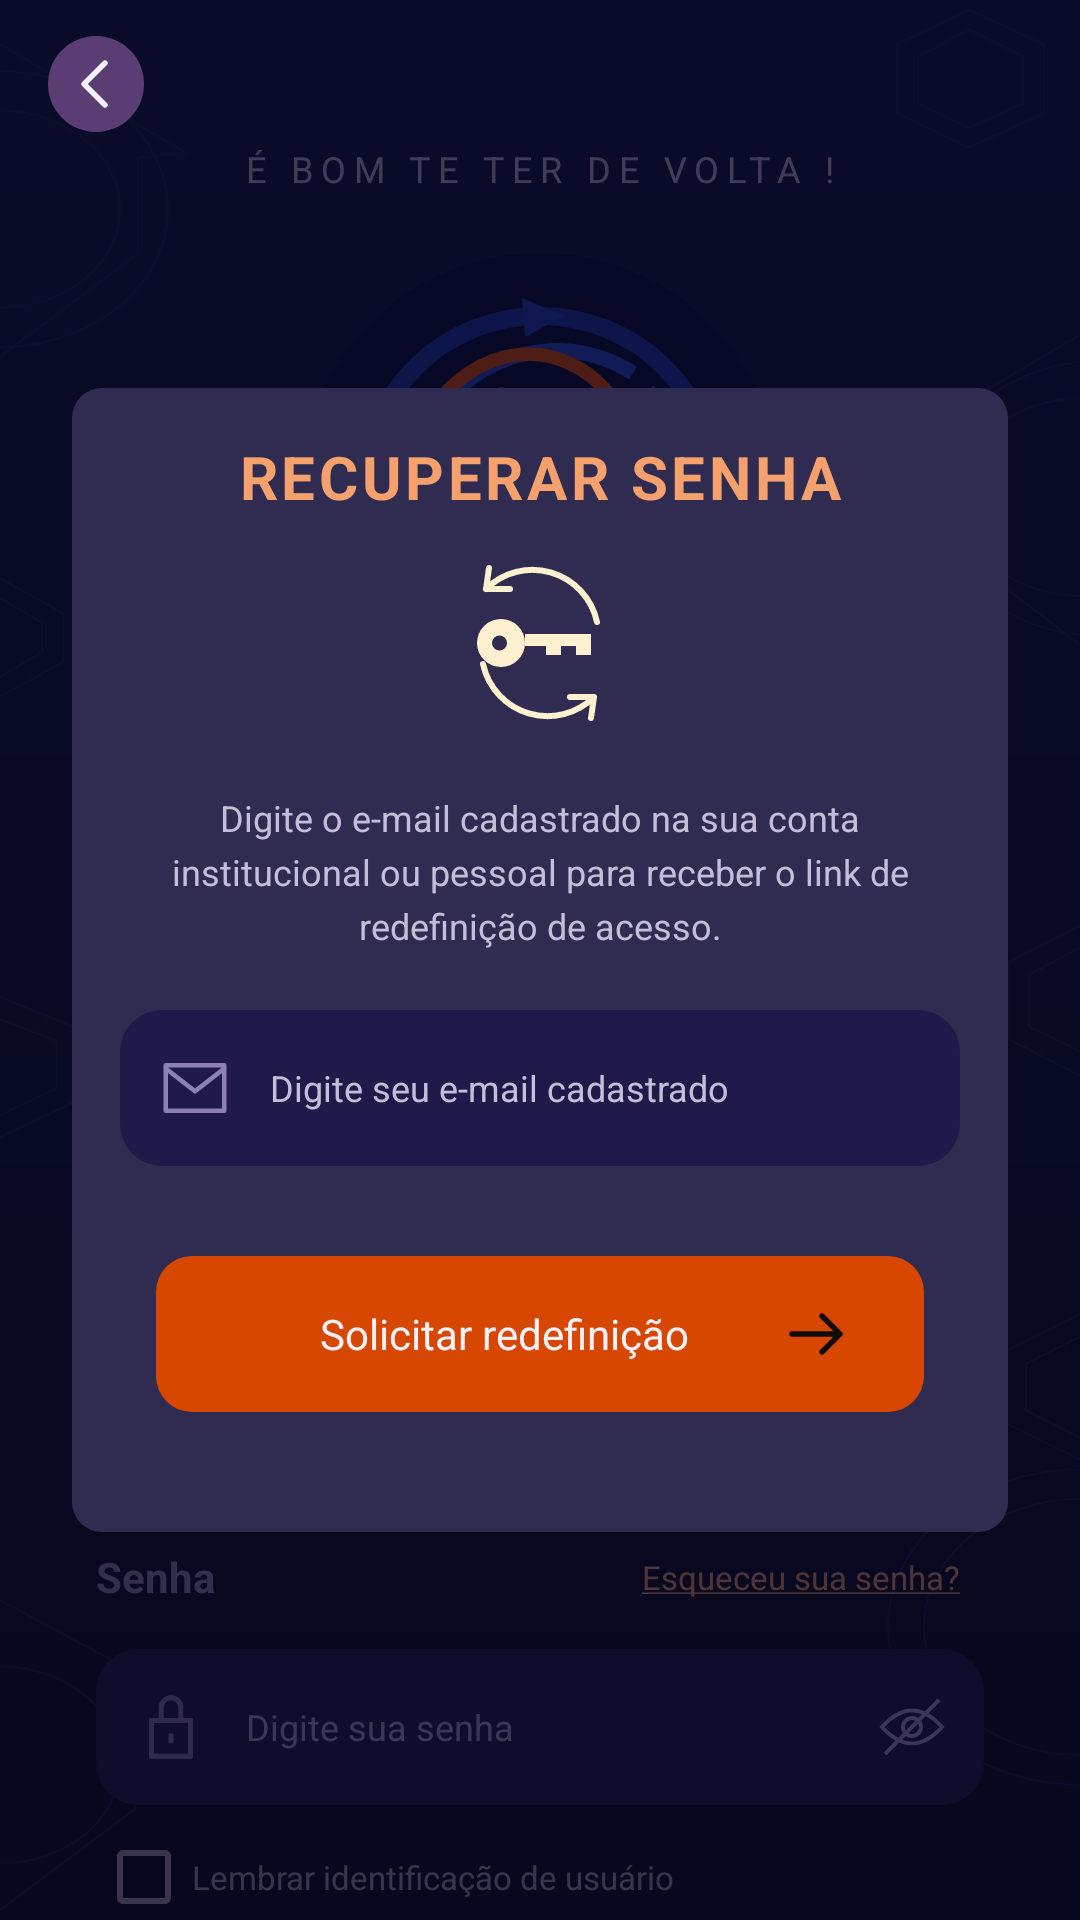

Icon bounding boxes for this 1080px×1920px phone screenshot, format {"x1": x1, "y1": y1, "x2": x2, "y2": y2}:
Mostrar senha: {"x1": 880, "y1": 1699, "x2": 944, "y2": 1755}
